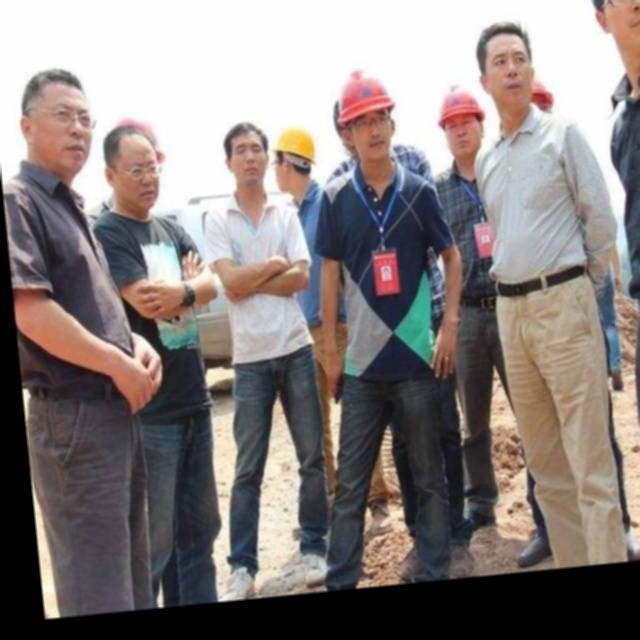Con_Casco: (332, 67, 401, 164)
Sin_Casco_Mascarrilla: (220, 119, 273, 190)
